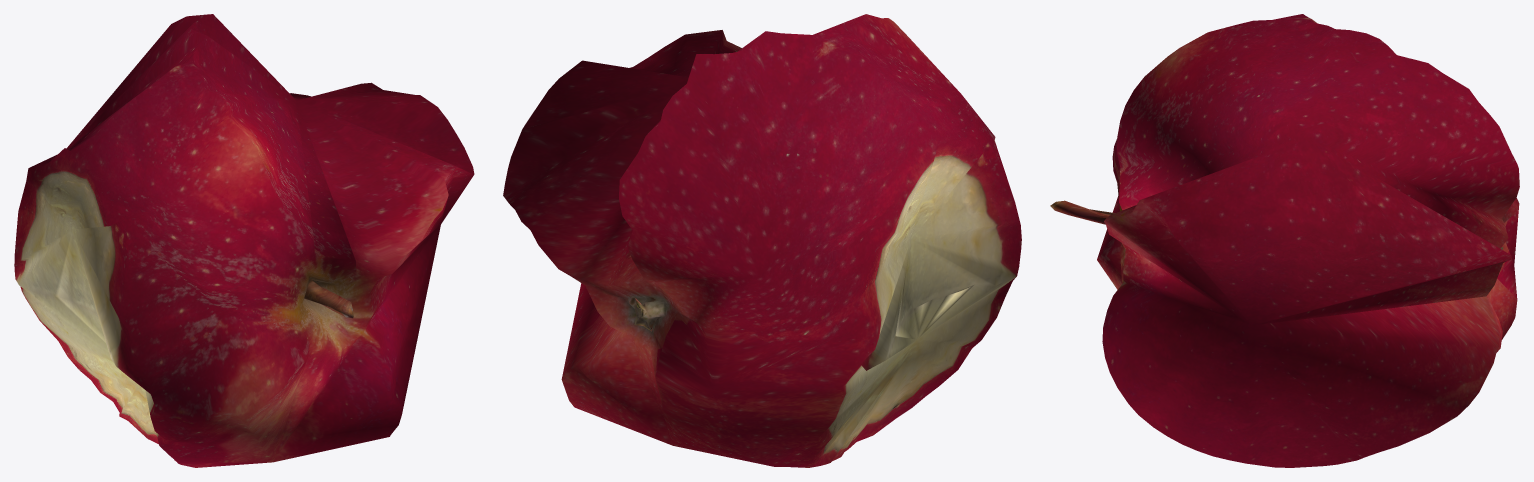
Rendered from apple_mid_lod_025.obj.
3 views of the same model, side by side, from view 1: azimuth 30°, elevation 25°; view 2: azimuth 150°, elevation 25°; view 3: azimuth 270°, elevation 25° (orthographic). The views are drawn at different scales.
Size of the model in its own units: 0.7138 by 0.7537 by 0.7871.
Materials: 1 (1 with a texture image).
